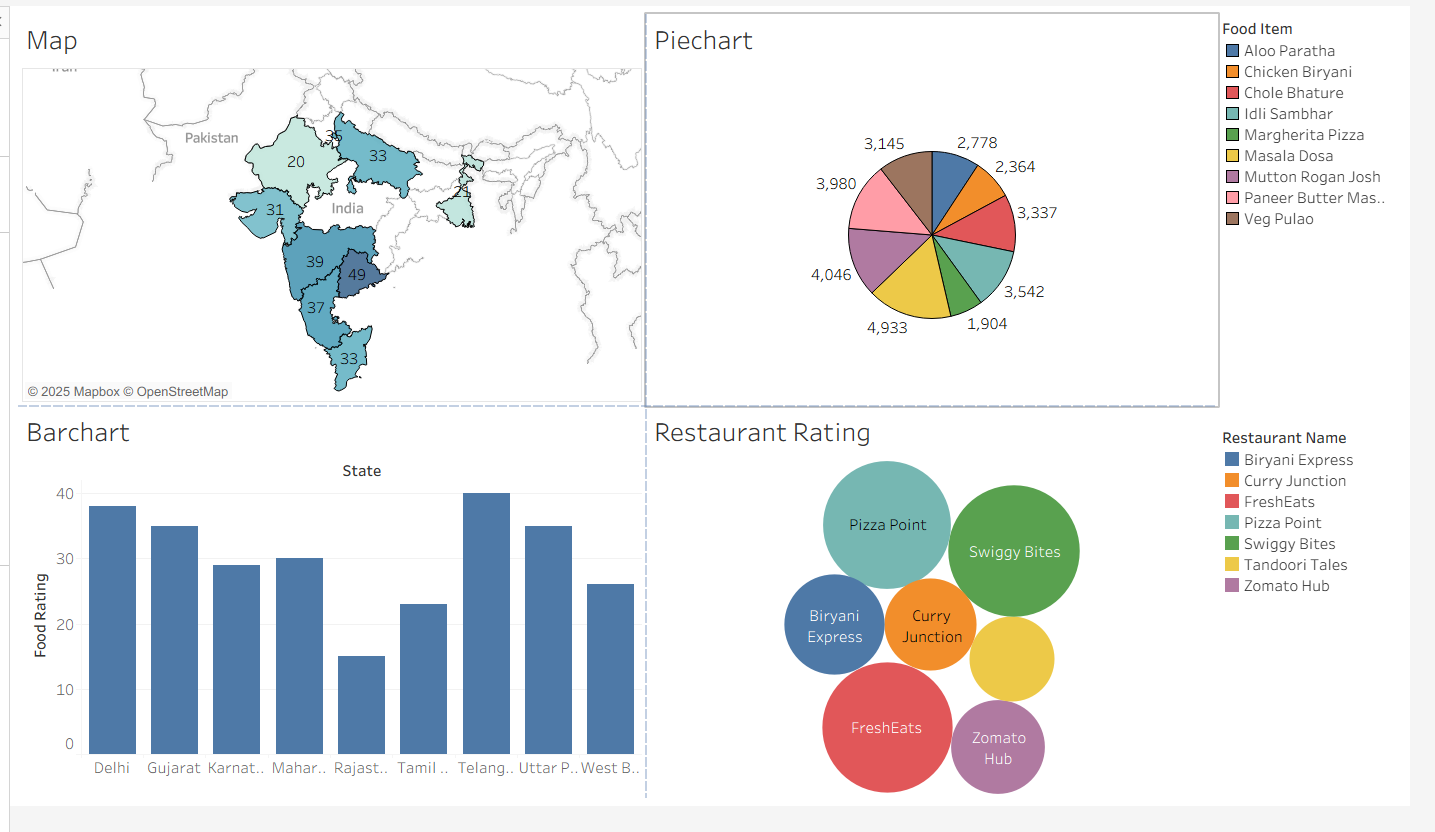

The dashboard page shown, as its layout file describes it:
{"tool":"tableau","page":{"name":"Dashboard 1","canvas":[1400,800],"ordinal":0},"visuals":[{"type":"worksheet","title":"Map","mark":"Automatic","box":[8,8,628.1,392]},{"type":"worksheet","title":"Piechart","mark":"Pie","box":[636.1,8,571.9,392]},{"type":"legend","title":"Piechart","param":"[federated.07wybtx0t91fvd17rmmu50caempz].[none:Food Item:nk]","box":[1208,8,184,409]},{"type":"worksheet","title":"Barchart","mark":"Automatic","rows":["Food Rating"],"cols":["State"],"box":[8,400,628.1,392]},{"type":"worksheet","title":"Restaurant Rating","mark":"Circle","box":[636.1,400,571.9,392]},{"type":"legend","title":"Restaurant Rating","param":"[federated.07wybtx0t91fvd17rmmu50caempz].[none:Restaurant Name:nk]","box":[1208,417,184,177]}]}

Visuals, with their boxes in screenshot pixels (x1, y1, x2, y2), scaled from the page's 1400x800 canvas onto the 1435x832 screenshot:
"Map" worksheet: Rect(8, 8, 652, 416)
"Piechart" worksheet (Pie marks): Rect(652, 8, 1238, 416)
"Piechart" legend: Rect(1238, 8, 1427, 434)
"Barchart" worksheet: Rect(8, 416, 652, 824)
"Restaurant Rating" worksheet (Circle marks): Rect(652, 416, 1238, 824)
"Restaurant Rating" legend: Rect(1238, 434, 1427, 618)
